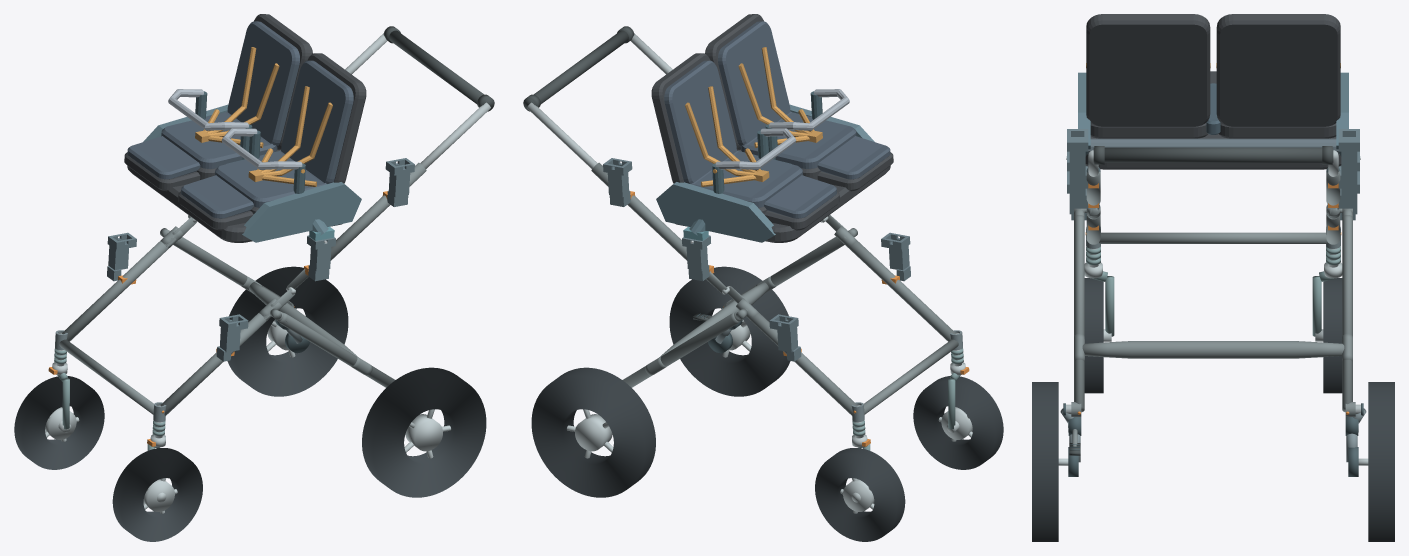
Rendered from S10_w650_state1_wheel_L.glb.
3 renders of one model, left to right at view 1: azimuth 30°, elevation 25°; view 2: azimuth 150°, elevation 25°; view 3: azimuth 270°, elevation 25°, orthographic. The views are drawn at different scales.
Parts seen in each view (by area): view 1: S10_Cabin, RL_tire.008, RR_tire.008, FL_tire.008, FR_tire.008, main_lower_1.009, round_handle.008, V46_rear_leg_-1.009, main_lower_-1.009, front_fixed_round_tube.008, main_upper_-1.009, Universal_Cabin_Receiver_H_-1 (+9 smaller); view 2: S10_Cabin, RR_tire.008, RL_tire.008, FR_tire.008, FL_tire.008, main_lower_-1.009, round_handle.008, V46_rear_leg_1.009, main_lower_1.009, front_fixed_round_tube.008, main_upper_1.009, Universal_Cabin_Receiver_H_1 (+9 smaller); view 3: S10_Cabin, V46_rearbar.009, RL_tire.008, RR_tire.008, round_handle.008, front_fixed_round_tube.008, FL_tire.008, FR_tire.008, V46_rear_leg_1.009, V46_rear_leg_-1.009, Universal_Cabin_Receiver_H_1, Universal_Cabin_Receiver_H_-1 (+4 smaller).
Boxes of the visible parts, x1=… form: S10_Cabin: x1=124, y1=14, x2=366, y2=242; RL_tire.008: x1=362, y1=367, x2=486, y2=497; RR_tire.008: x1=227, y1=266, x2=348, y2=396; FL_tire.008: x1=112, y1=448, x2=202, y2=541; FR_tire.008: x1=14, y1=376, x2=104, y2=469; main_lower_1.009: x1=62, y1=238, x2=176, y2=341; round_handle.008: x1=389, y1=30, x2=493, y2=110; V46_rear_leg_-1.009: x1=278, y1=313, x2=395, y2=387; main_lower_-1.009: x1=160, y1=313, x2=270, y2=415; front_fixed_round_tube.008: x1=59, y1=339, x2=153, y2=414; main_upper_-1.009: x1=330, y1=162, x2=426, y2=260; Universal_Cabin_Receiver_H_-1: x1=385, y1=158, x2=414, y2=206; S10_Cabin: x1=651, y1=14, x2=893, y2=242; RR_tire.008: x1=531, y1=367, x2=655, y2=497; RL_tire.008: x1=669, y1=266, x2=790, y2=396; FR_tire.008: x1=815, y1=448, x2=905, y2=541; FL_tire.008: x1=913, y1=376, x2=1003, y2=469; main_lower_-1.009: x1=841, y1=238, x2=955, y2=341; round_handle.008: x1=524, y1=30, x2=628, y2=110; V46_rear_leg_1.009: x1=622, y1=313, x2=739, y2=387; main_lower_1.009: x1=747, y1=313, x2=857, y2=415; front_fixed_round_tube.008: x1=864, y1=339, x2=958, y2=414; main_upper_1.009: x1=591, y1=162, x2=687, y2=260; Universal_Cabin_Receiver_H_1: x1=603, y1=158, x2=632, y2=206; S10_Cabin: x1=1078, y1=14, x2=1348, y2=169; V46_rearbar.009: x1=1082, y1=341, x2=1344, y2=358; RL_tire.008: x1=1032, y1=382, x2=1058, y2=541; RR_tire.008: x1=1368, y1=382, x2=1394, y2=541; round_handle.008: x1=1093, y1=147, x2=1333, y2=162; front_fixed_round_tube.008: x1=1099, y1=232, x2=1327, y2=243; FL_tire.008: x1=1084, y1=278, x2=1103, y2=393; FR_tire.008: x1=1323, y1=278, x2=1342, y2=393; V46_rear_leg_1.009: x1=1342, y1=215, x2=1352, y2=412; V46_rear_leg_-1.009: x1=1074, y1=215, x2=1084, y2=412; Universal_Cabin_Receiver_H_1: x1=1338, y1=129, x2=1359, y2=188; Universal_Cabin_Receiver_H_-1: x1=1067, y1=129, x2=1088, y2=188.
Bounding box in the file's own units: 1.2 × 1.23 × 0.8171.
